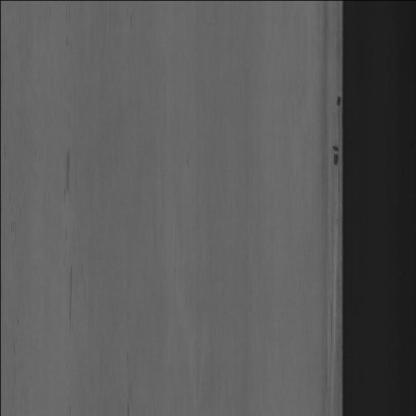oil_spot: (330, 139, 340, 178), (333, 89, 342, 110)
water_spot: (61, 132, 76, 325)
